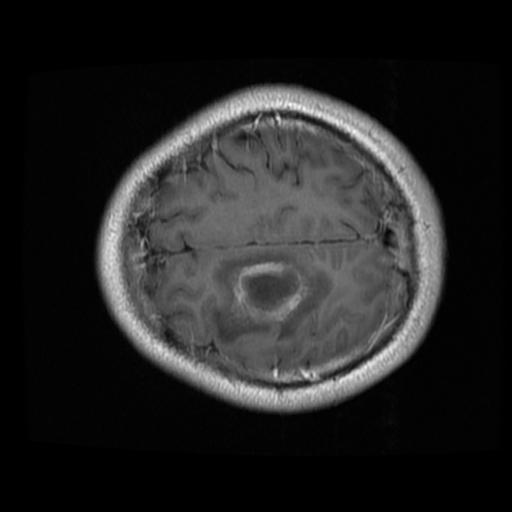glioma: (212, 254, 332, 341)
